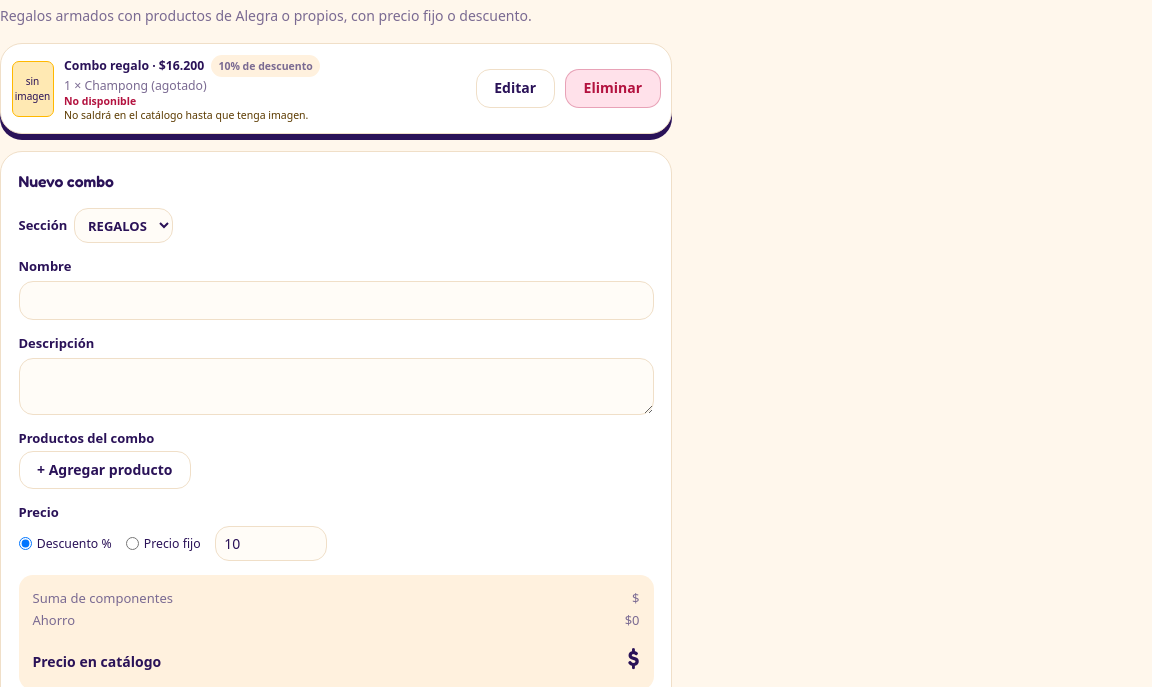
Test: Combos: aviso de componentes agotados › al editar un combo guardado con un componente agotado muestra el aviso
Check: the heading "Nuevo combo" is shown, box [18,172,114,191]
Click the button "Editar".
click(515, 89)  # box [476,69,555,108]
(page scrolled)
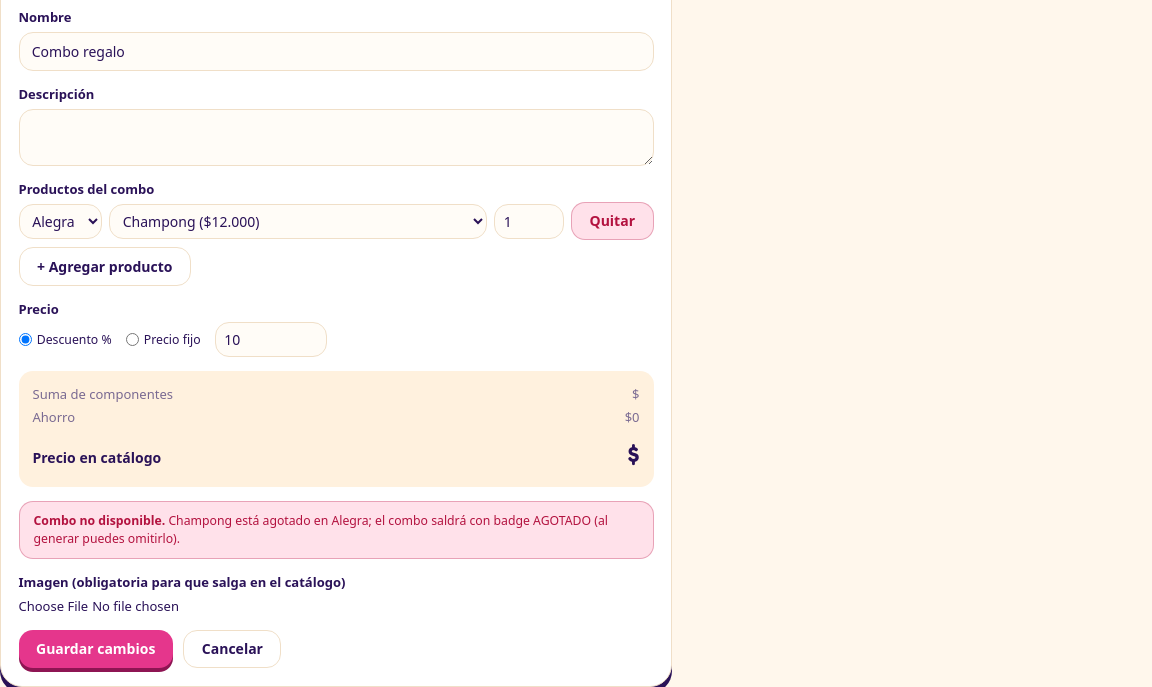
Check: the message with test id "bundle-unavailable" shows "Champong está agotado en Alegra", box [18,501,654,559]
